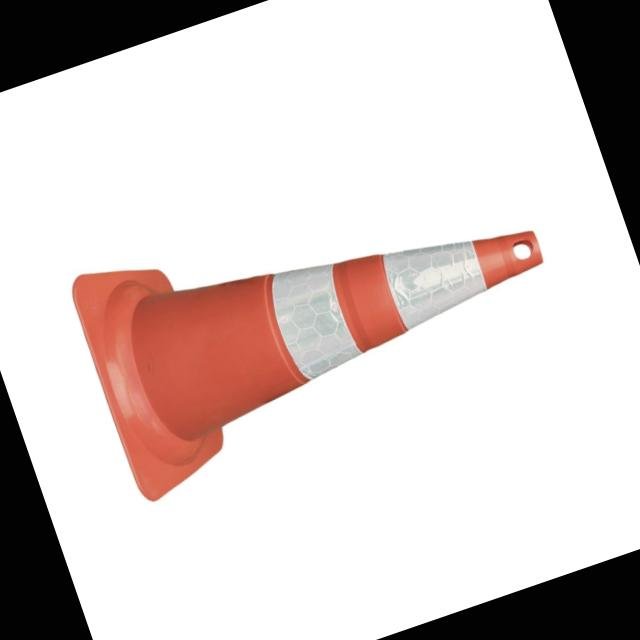cone: (47, 117, 602, 510)
